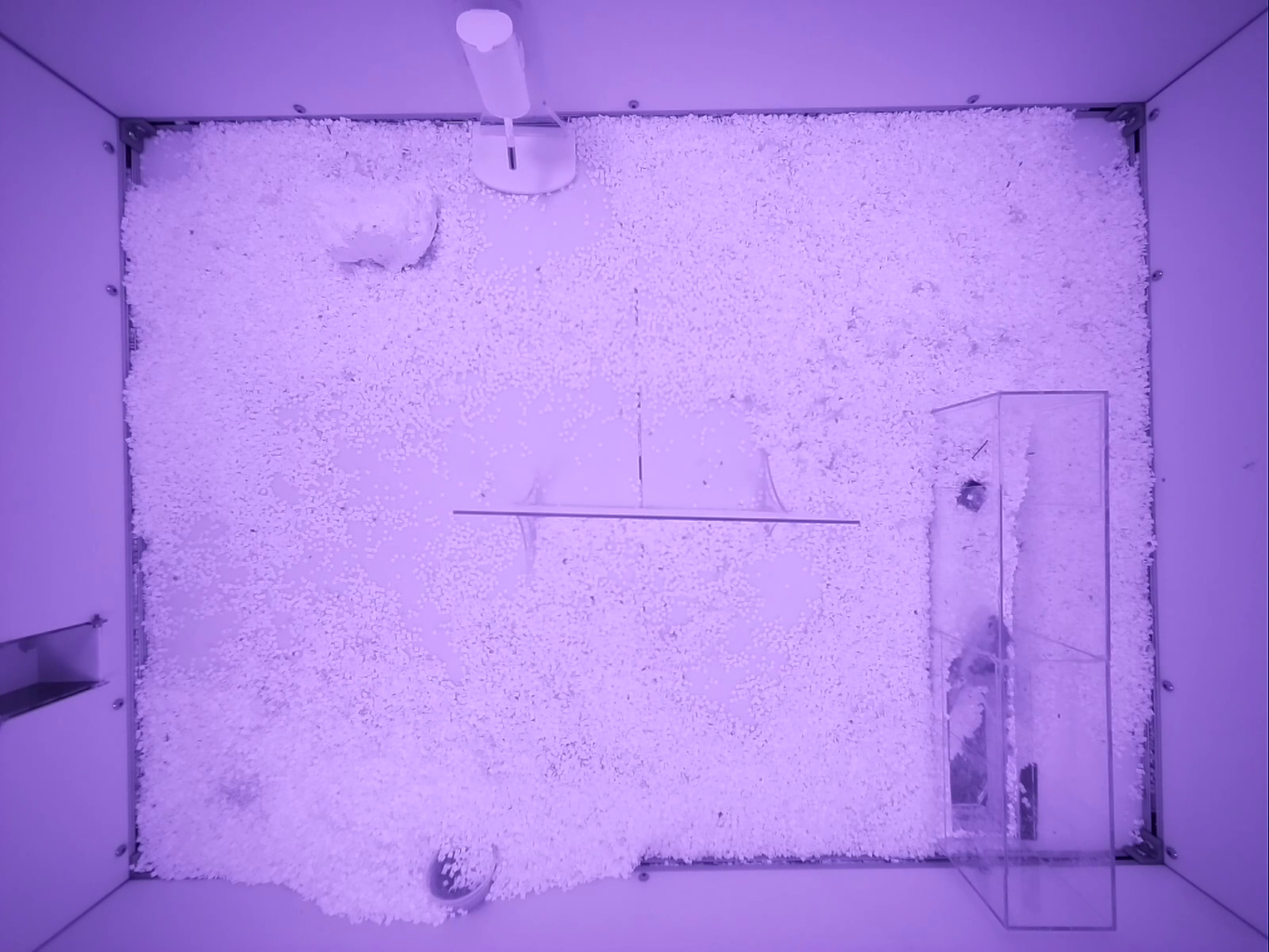adult_back: (948, 615, 1010, 713)
